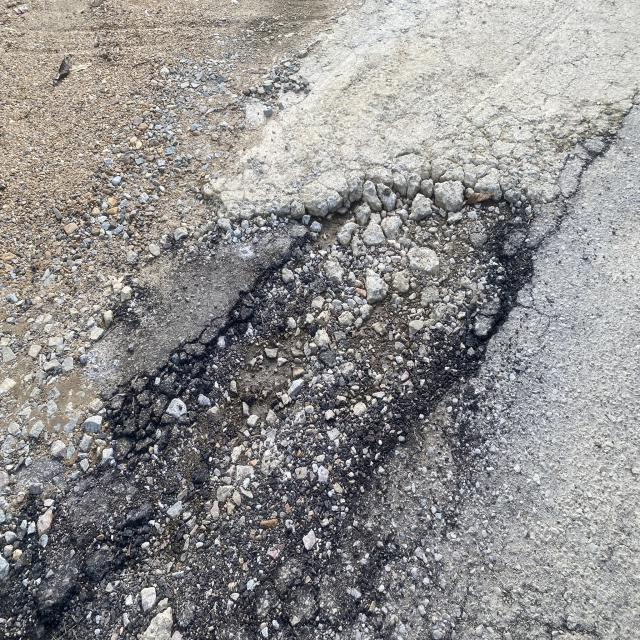pothole: (69, 160, 562, 449)
